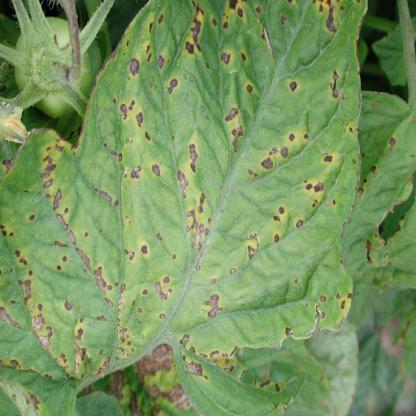tomato leaf bacterial spot: (6, 1, 385, 402)
